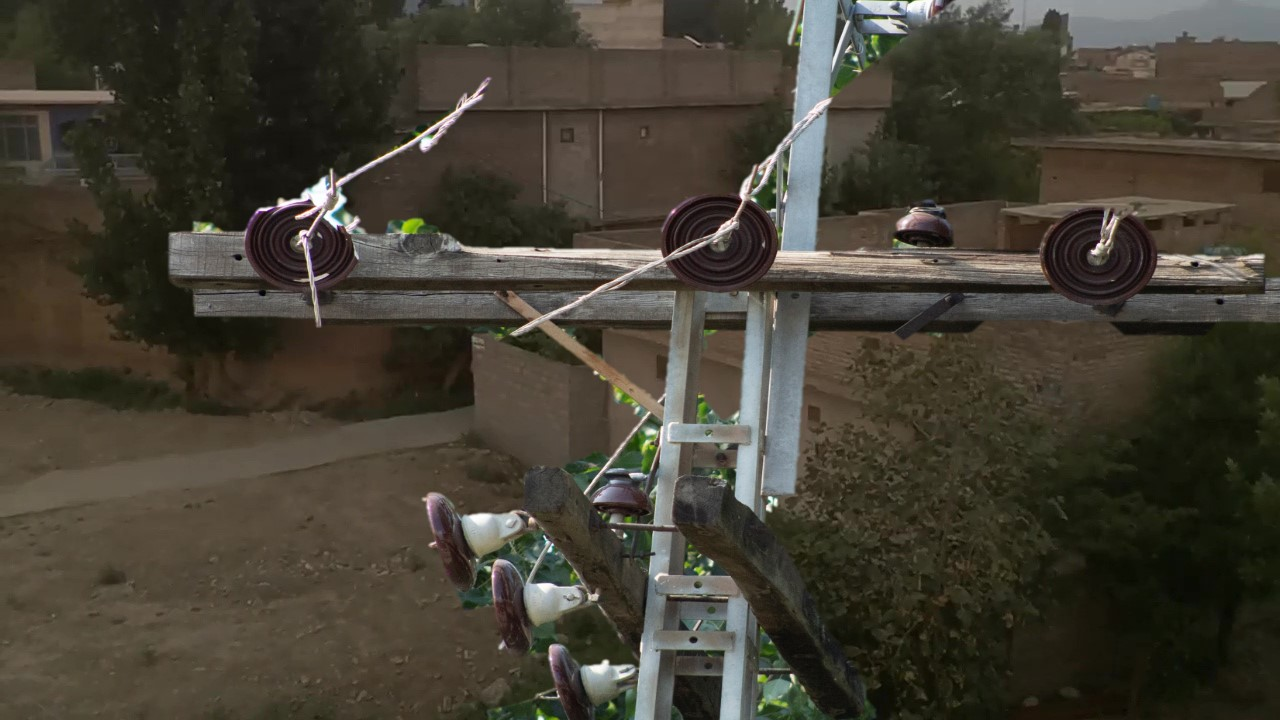defect_disc: (245, 179, 369, 293)
insulator_disc: (1034, 191, 1161, 317), (659, 186, 783, 287), (458, 567, 600, 646), (419, 480, 502, 564), (540, 640, 623, 703)
insulator_pin: (586, 461, 656, 523), (888, 193, 959, 251)
